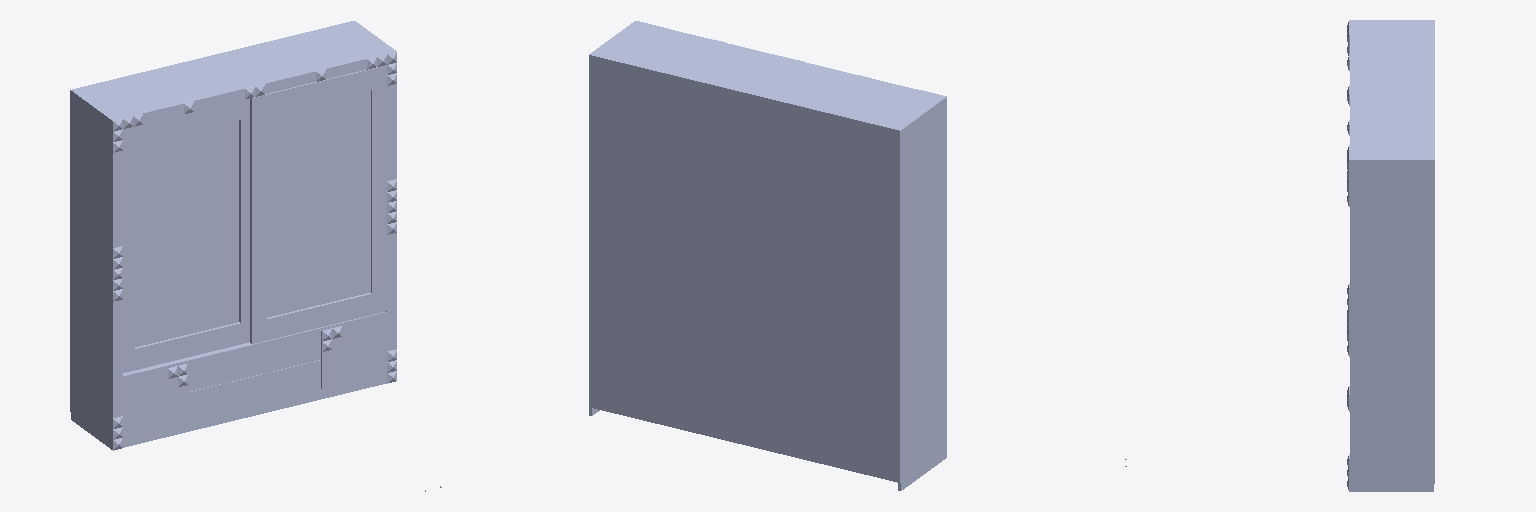
The robot description file, URDF, robot "cabinet_china":
<robot
  name="cabinet_china">
  <link
    name="cabinet_china">
    <inertial>
      <origin
        xyz="0.00079668 0.20901 1.0381"
        rpy="0 0 0" />
      <mass
        value="206" />
      <inertia
        ixx="115.214864209485"
        ixy="-0.291428586649958"
        ixz="0.0633830084501721"
        iyy="201.695778437275"
        iyz="0.368064159652231"
        izz="100.429463489126" />
    </inertial>
    <visual>
      <origin
        xyz="0 0 0"
        rpy="0 0 0" />
      <geometry>
        <mesh
          filename="package://cabinet_china/meshes/cabinet_china.dae" />
      </geometry>
      <material
        name="">
        <color
          rgba="0.79216 0.81961 0.93333 1" />
      </material>
    </visual>
    <collision>
      <origin
        xyz="0 0 0"
        rpy="0 0 0" />
      <geometry>
        <mesh
          filename="package://cabinet_china/meshes/cabinet_china.dae" />
      </geometry>
    </collision>
  </link>
</robot>

--- Facts derived from the render (not from the file) ---
Views: 3 orthographic renders of the robot side by side, from view 1: azimuth 30°, elevation 25°; view 2: azimuth 150°, elevation 25°; view 3: azimuth 270°, elevation 25°.
Model cabinet_china with 1 links and 0 joints (none), rooted at cabinet_china, posed every joint at zero.
Links seen in each view (by area): view 1: cabinet_china; view 2: cabinet_china; view 3: cabinet_china.
Boxes of the visible links, box(x1,y1,x2,y2) form: cabinet_china: box(70, 21, 441, 491); cabinet_china: box(589, 21, 946, 490); cabinet_china: box(1125, 20, 1434, 491).
Bounding box of the posed robot: 1.96 × 1.84 × 2.23 m (x, y, z).
1 mesh visuals loaded from 1 distinct referenced files (1 Collada DAE).